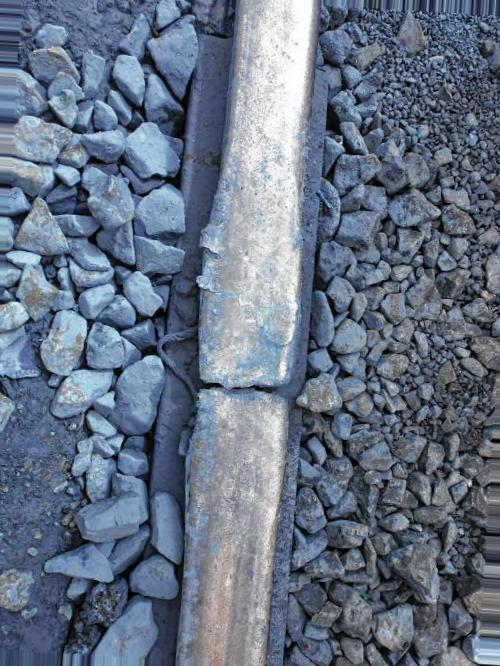railway-gap: (174, 323, 313, 457)
